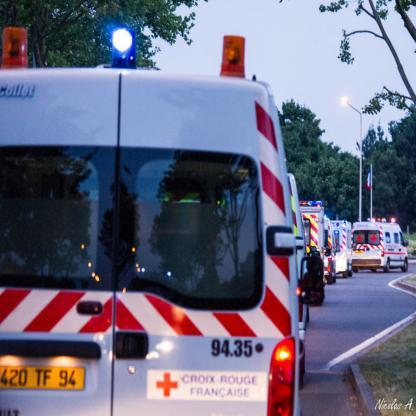Ambulance - v1 Ambulance last generate: (0, 26, 409, 415)
